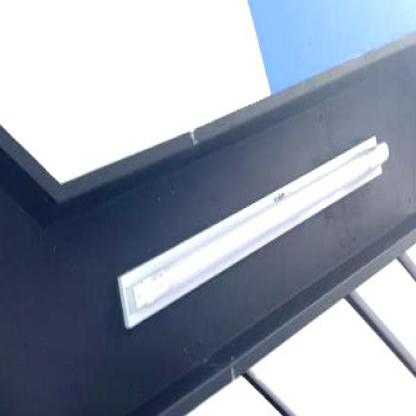light_off: (106, 111, 398, 346)
